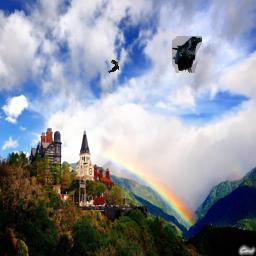Crow: (172, 37, 202, 74), (107, 59, 119, 73)
